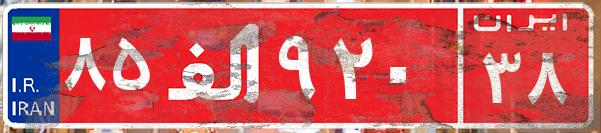0: (385, 28, 445, 110)
2: (330, 28, 385, 110)
3: (475, 38, 525, 113)
5: (110, 28, 158, 105)
8: (57, 26, 110, 107), (525, 38, 570, 115)
9: (273, 28, 330, 110)
الف: (158, 15, 273, 115)
